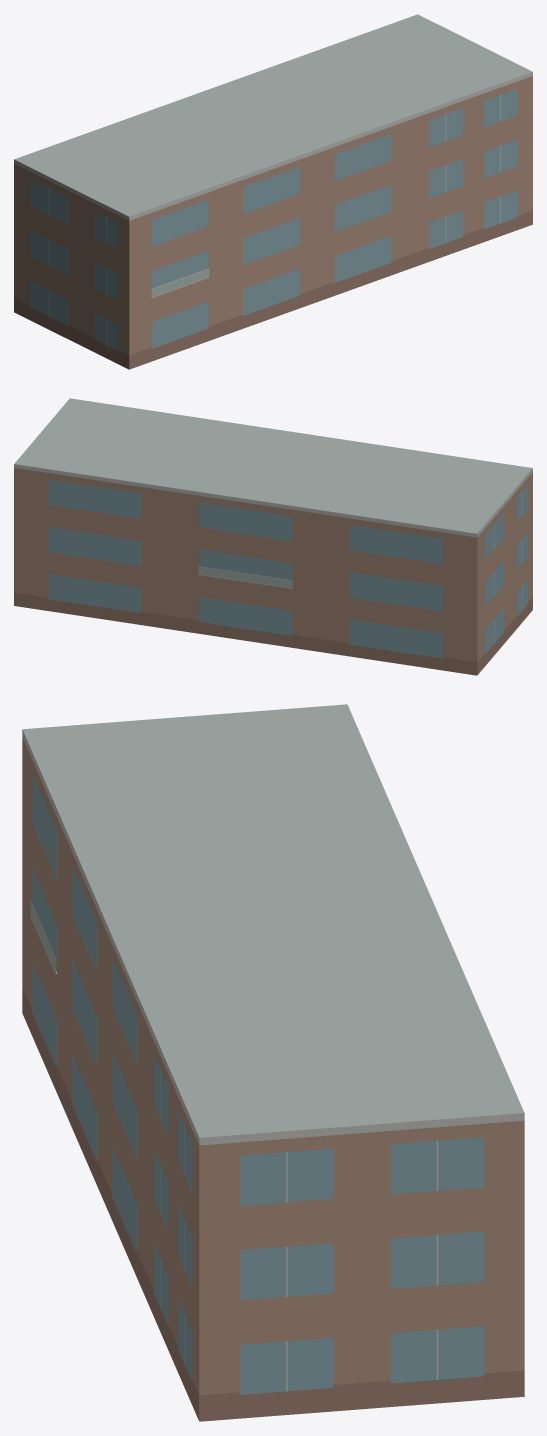
Rendered from survey-upis-33002962.glb.
The picture shows the model from 3 angles, top to bottom: view 1: azimuth 30°, elevation 25°; view 2: azimuth 150°, elevation 25°; view 3: azimuth 270°, elevation 25°; orthographic projection. The views are drawn at different scales.
Visible parts, largest first — view 1: survey-upis-33002962.tmp; view 2: survey-upis-33002962.tmp; view 3: survey-upis-33002962.tmp.
Part boxes in pixels (bbox=[...]): survey-upis-33002962.tmp: bbox=[14, 14, 532, 369]; survey-upis-33002962.tmp: bbox=[14, 398, 532, 675]; survey-upis-33002962.tmp: bbox=[22, 704, 524, 1421].
Size of the model in its own units: 30.01 by 9.15 by 14.69.
